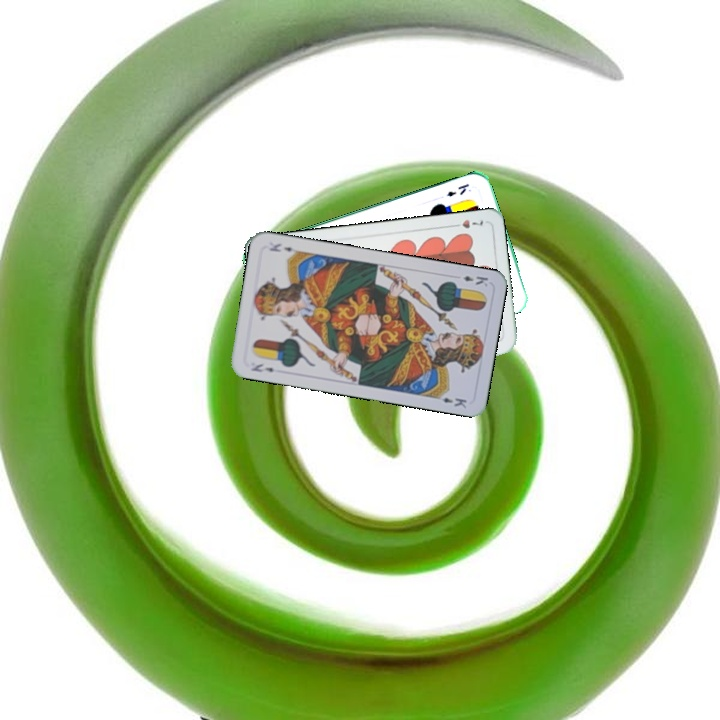EK: (450, 271, 491, 289), (443, 179, 471, 200), (247, 359, 276, 375)
H7: (447, 215, 486, 231)
